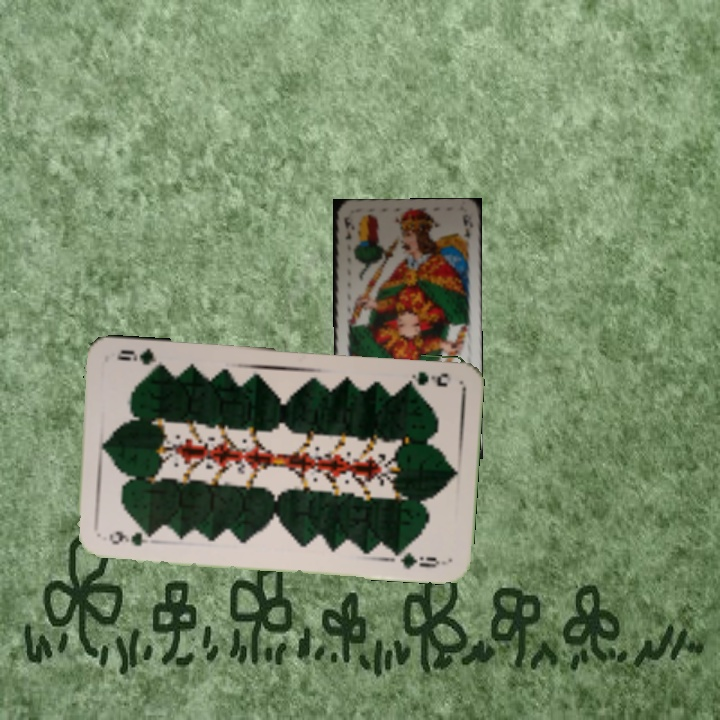EK: (340, 214, 355, 241)
G9: (401, 367, 451, 390), (105, 528, 158, 549)
